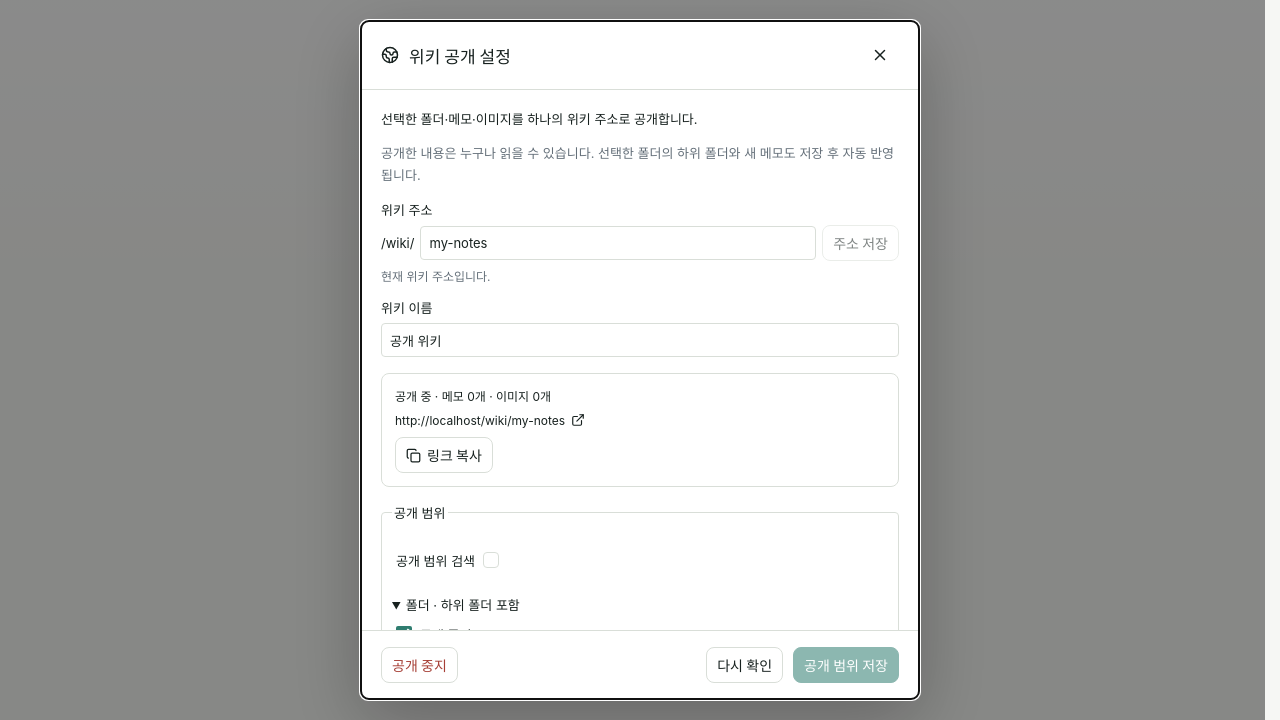
Scenario: workspace wiki publication dialog › still permits unpublishing when local preparation fails
Click the button "공개 중지": (419, 665) left=381, top=647, right=458, bottom=683
(page scrolled)
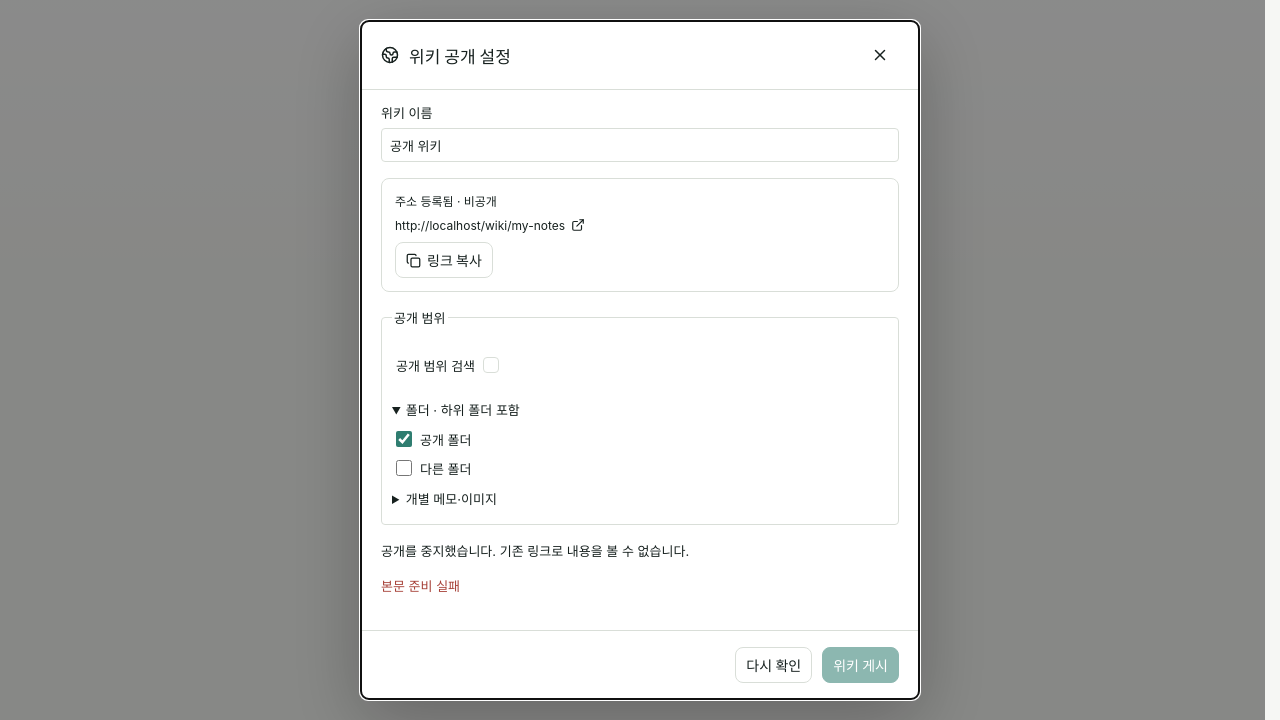
Result: the text "공개를 중지했습니다. 기존 링크로 내용을 볼 수 없습니다." is shown at left=381, top=543, right=689, bottom=559
